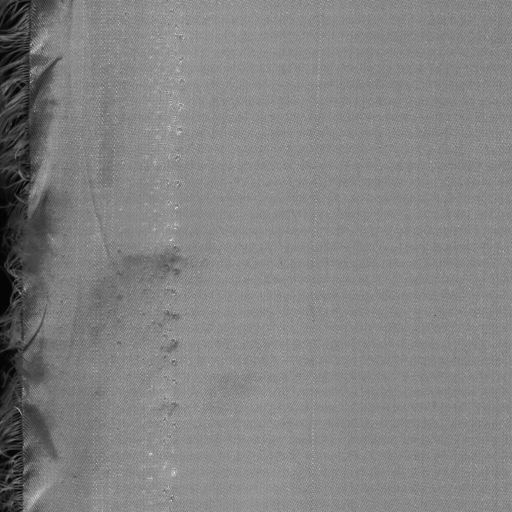defect: (312, 2, 323, 512)
